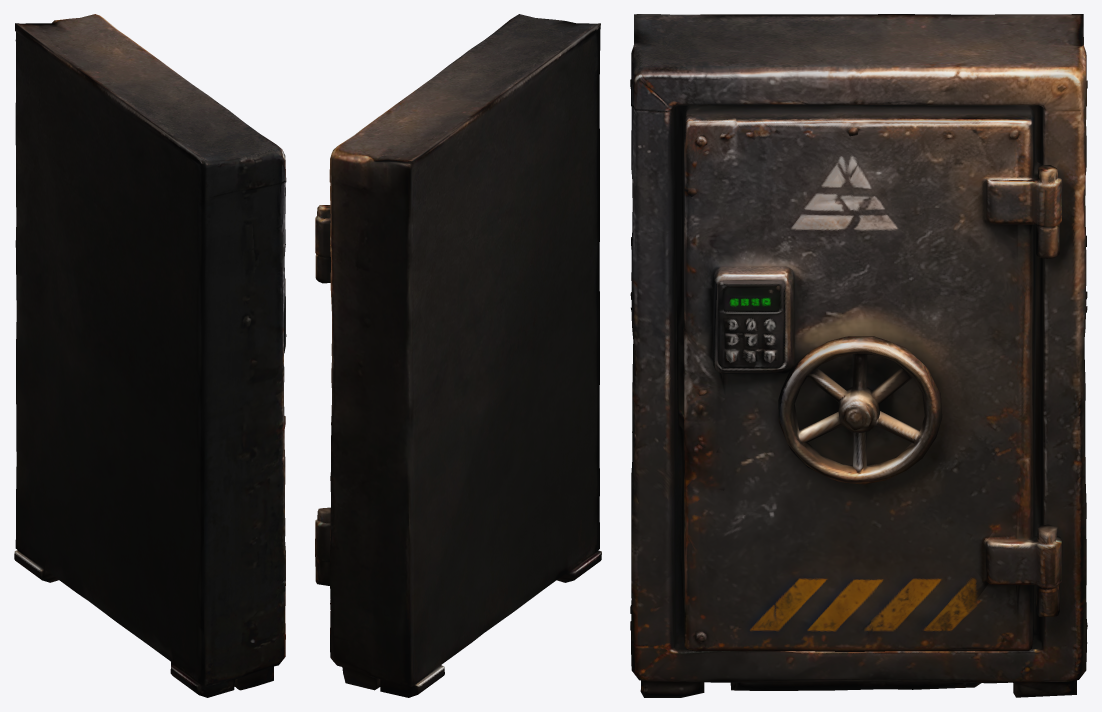
The model's file is st_safe.glb.
3 views of the same model, side by side, from view 1: azimuth 30°, elevation 25°; view 2: azimuth 150°, elevation 25°; view 3: azimuth 270°, elevation 25° (orthographic). The views are drawn at different scales.
Parts seen in each view (by area): view 1: tripo_node_250c5955-fddb-49e3-8511-2211d3327417; view 2: tripo_node_250c5955-fddb-49e3-8511-2211d3327417; view 3: tripo_node_250c5955-fddb-49e3-8511-2211d3327417.
Part boxes in pixels (box(x1,y1,x2,y2)): tripo_node_250c5955-fddb-49e3-8511-2211d3327417: box(14, 14, 286, 697); tripo_node_250c5955-fddb-49e3-8511-2211d3327417: box(315, 14, 601, 697); tripo_node_250c5955-fddb-49e3-8511-2211d3327417: box(630, 14, 1087, 697).
Size of the model in its own units: 0.2898 by 0.9832 by 0.6295.
1 material, 1 textured.
